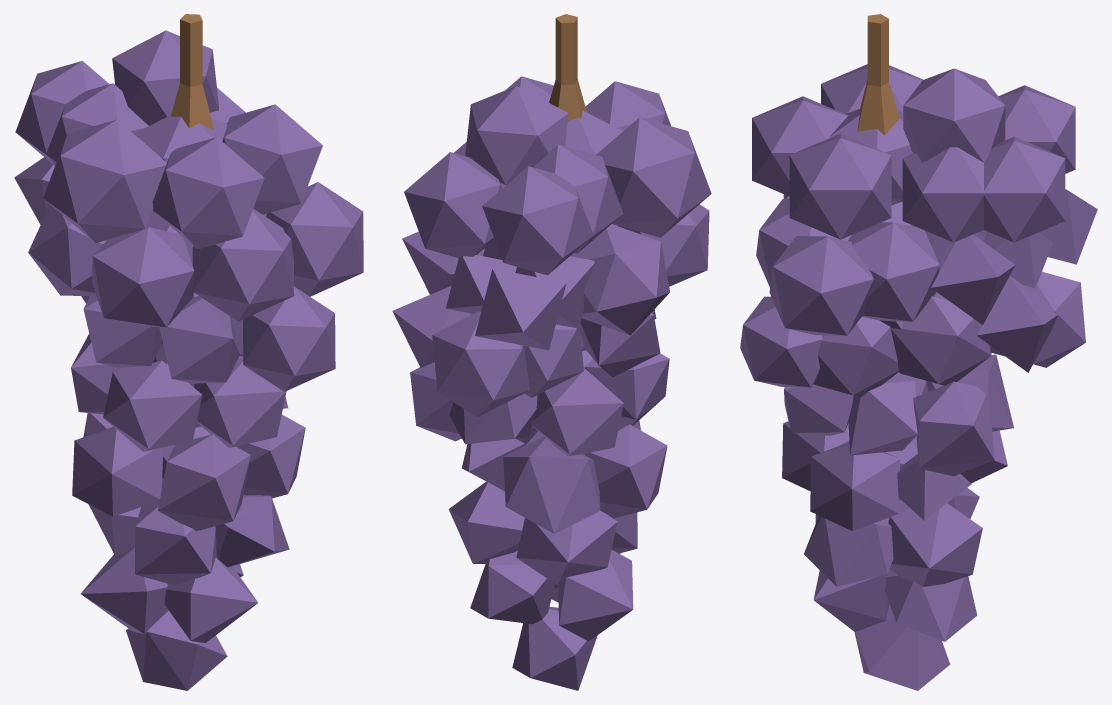
Rendered from Grape_02.fbx.
3 views of the same model, side by side, from view 1: azimuth 30°, elevation 25°; view 2: azimuth 150°, elevation 25°; view 3: azimuth 270°, elevation 25° (orthographic). The views are drawn at different scales.
Parts seen in each view (by area): view 1: Grape_02; view 2: Grape_02; view 3: Grape_02.
Boxes of the visible parts, bbox=[...] form: Grape_02: bbox=[14, 14, 363, 690]; Grape_02: bbox=[392, 14, 711, 690]; Grape_02: bbox=[740, 14, 1097, 690].
Size of the model in its own units: 10.55 by 24.61 by 12.01.
